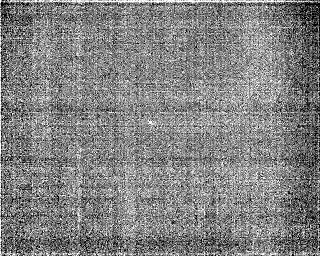AIRPLANE: (146, 117, 155, 128)
